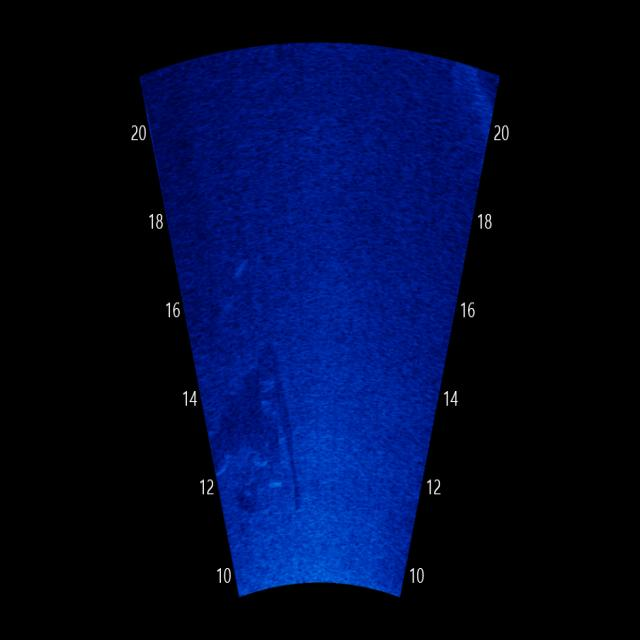triangle: (212, 333, 310, 526)
